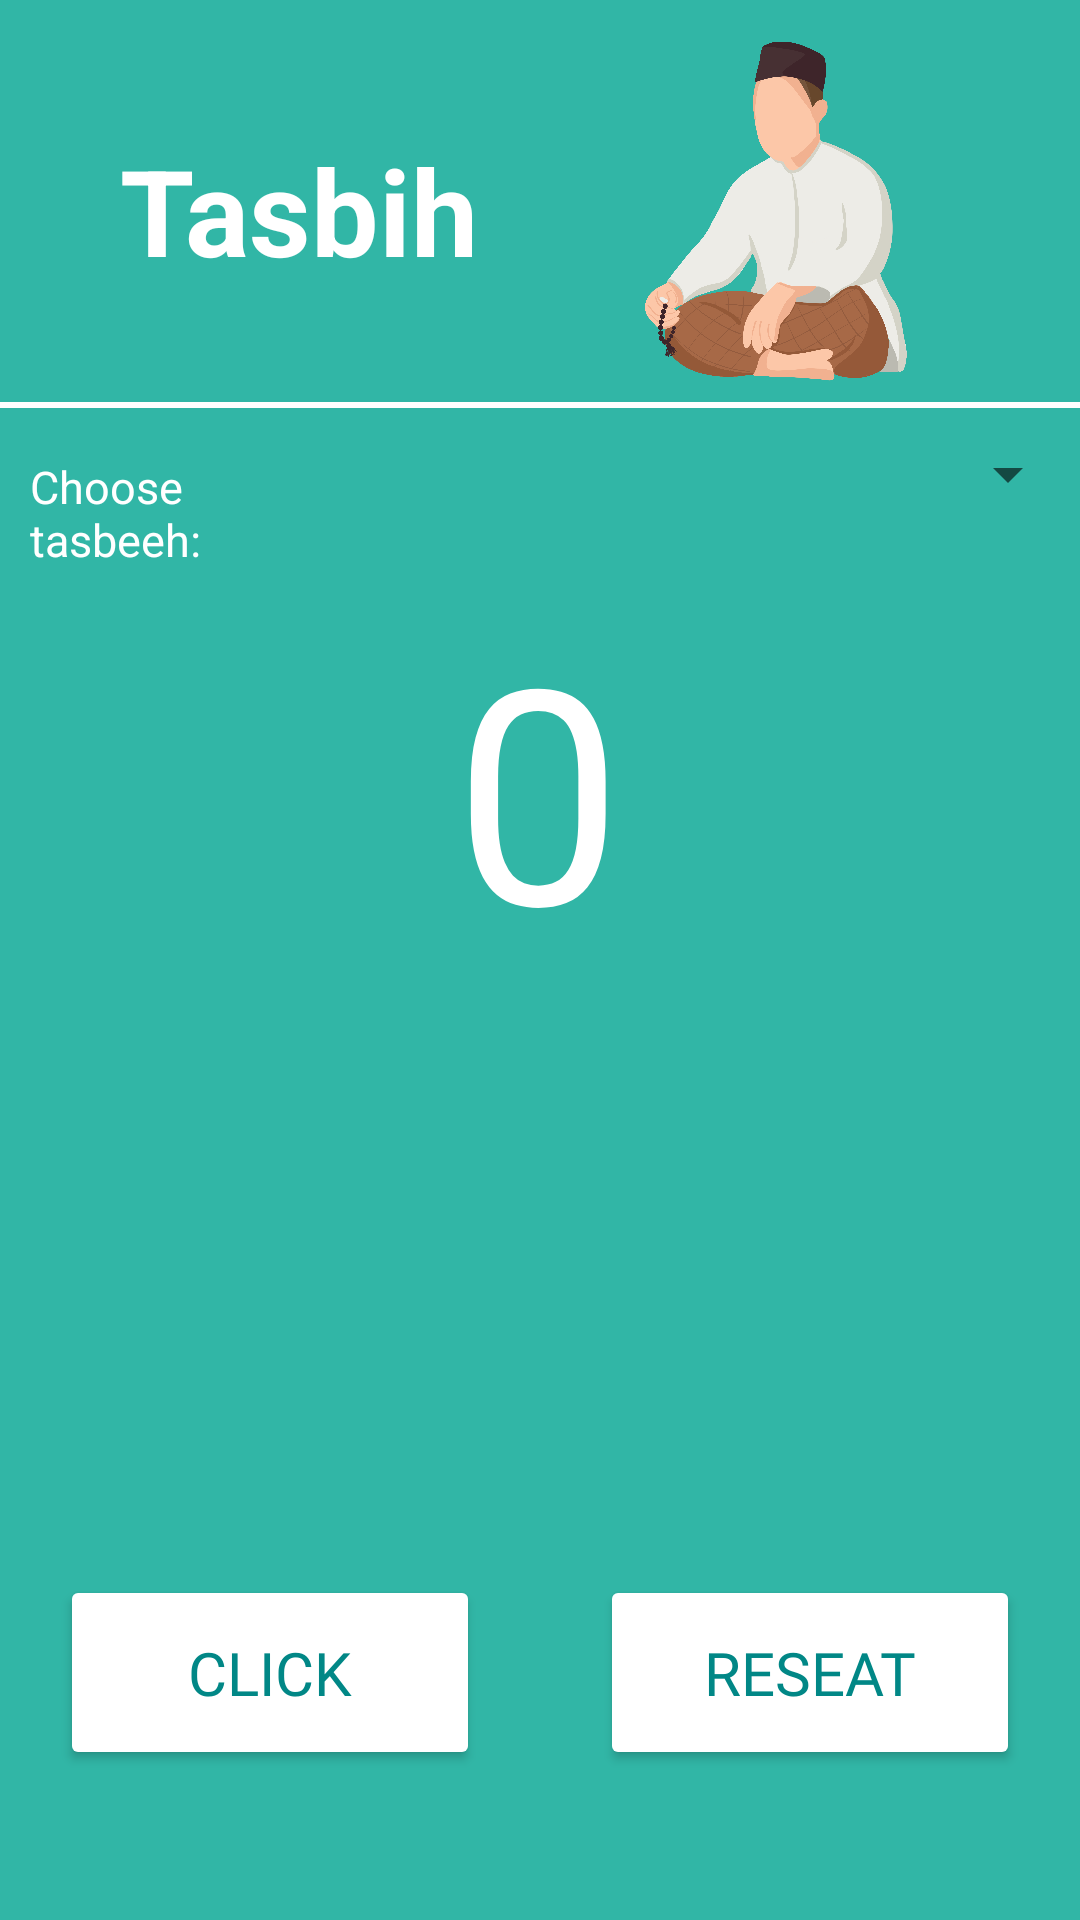

Icons on this 1080×1920 Android screen, each with the point to tap as point (x, y):
sobha: point (776, 211)
